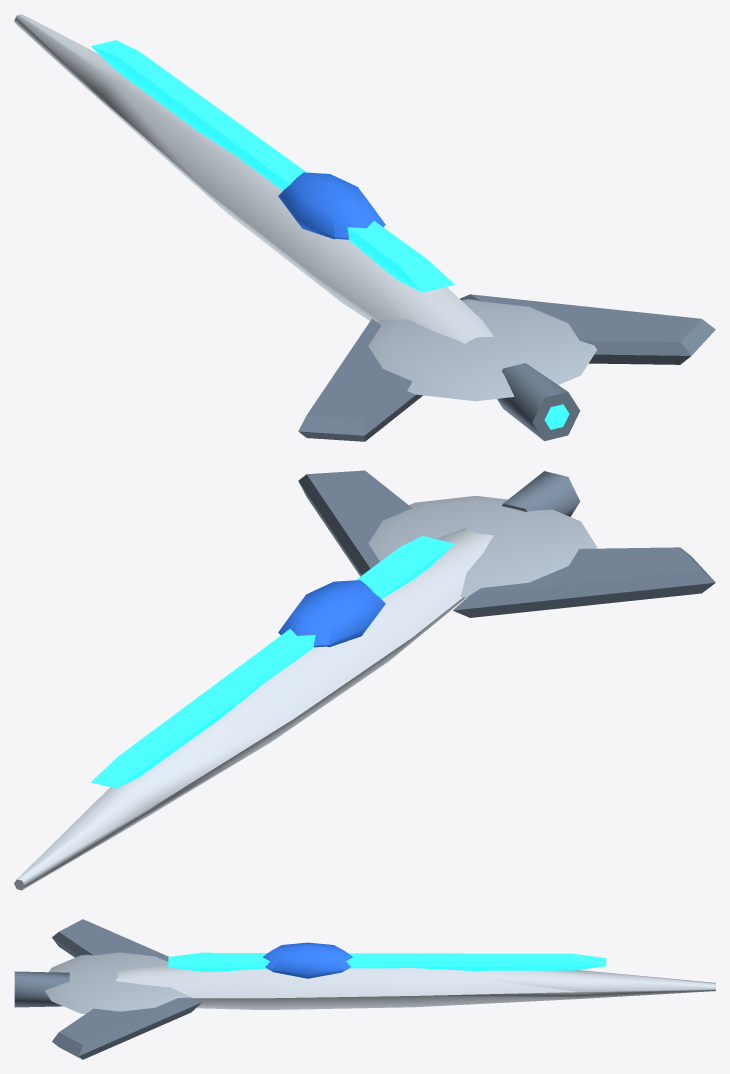
The model's file is player_redesign_c.glb.
3 views of the same model, one above another, from view 1: azimuth 30°, elevation 25°; view 2: azimuth 150°, elevation 25°; view 3: azimuth 270°, elevation 25° (orthographic). The views are drawn at different scales.
Parts seen in each view (by area): view 1: REDESIGN C // NEEDLE; view 2: REDESIGN C // NEEDLE; view 3: REDESIGN C // NEEDLE.
Boxes of the visible parts, x1,y1,x2,y2 form: REDESIGN C // NEEDLE: (14, 14, 715, 441); REDESIGN C // NEEDLE: (14, 470, 715, 890); REDESIGN C // NEEDLE: (14, 919, 715, 1059).
Bounding box in the file's own units: 2.3 × 0.4643 × 5.13.
